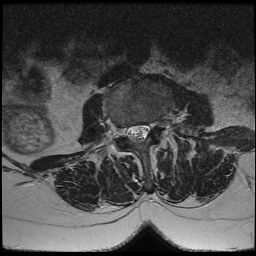CCS_normal: (134, 119, 142, 150)
LFS_stenosis: (150, 111, 159, 135)
LLS_normal: (142, 118, 150, 146)
RFS_normal: (117, 121, 126, 142)
RLS_normal: (126, 121, 134, 144)
